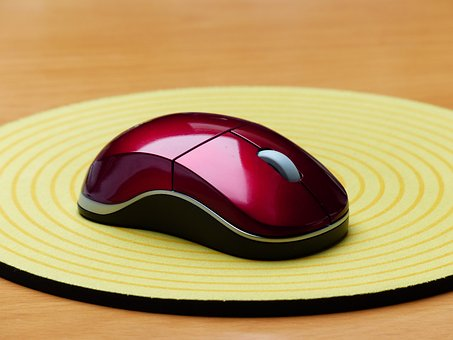mouse: (68, 104, 364, 257)
